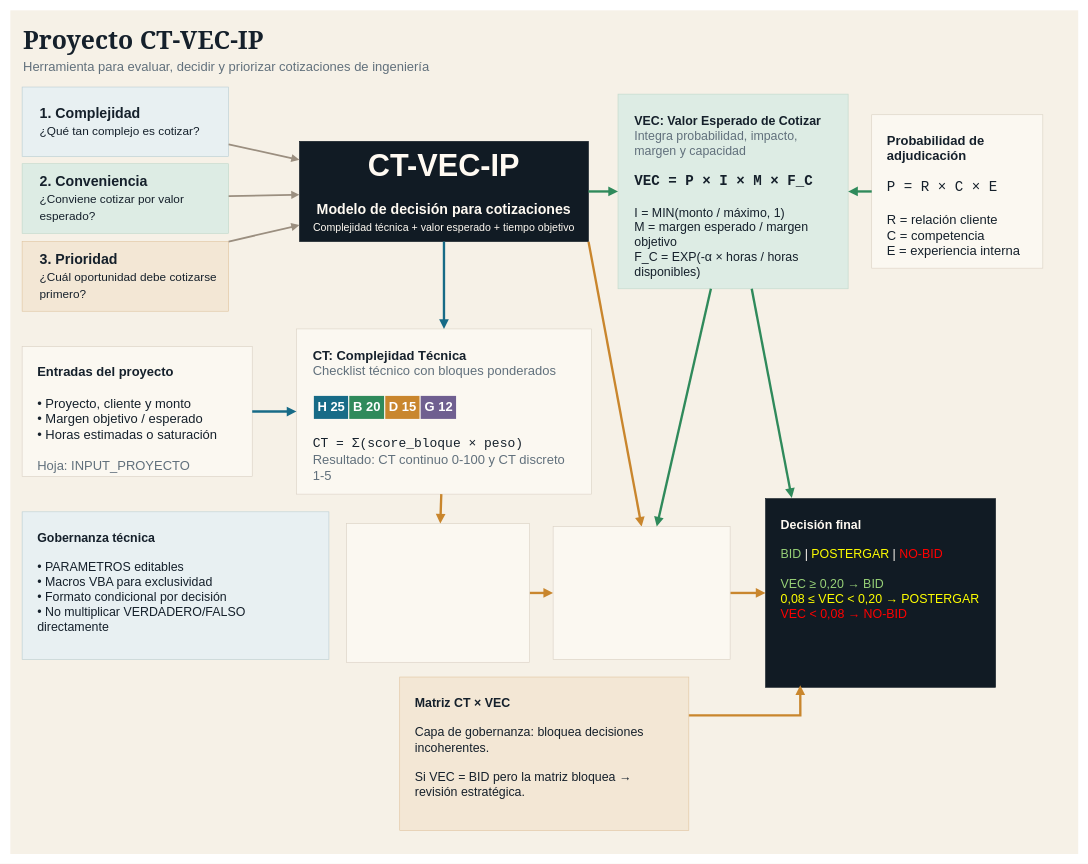
Image size: 1088x864. Some labels were removed from this diagram. Each missing label, with the centre of its shape:
"Prioridad IP Ordena proyectos elegibles IP = VEC / T′" belongs at point 641,592.
"Tiempo objetivo T′ Tabla CT → rango de horas T′ = (h_min + h_max) / 2" belongs at point 438,592.
